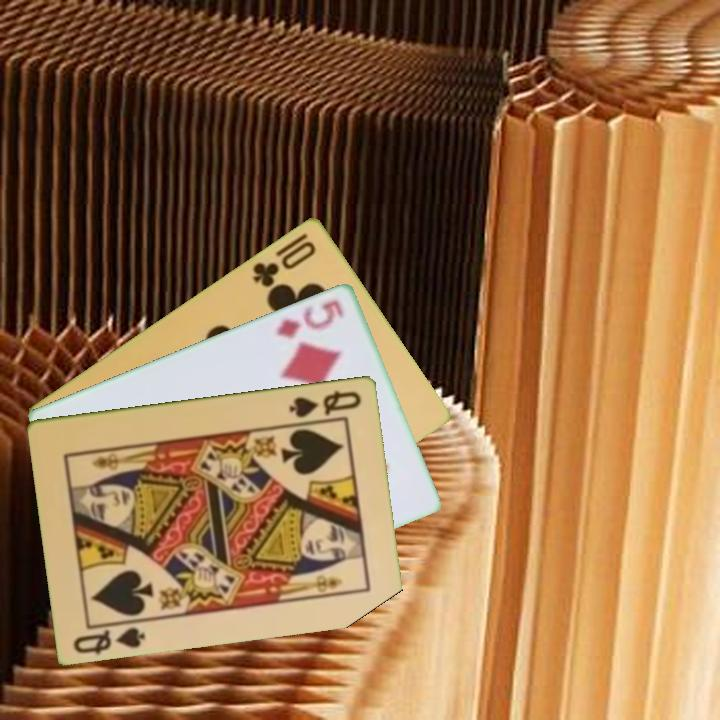10c: (249, 237, 319, 290)
5d: (274, 295, 347, 341)
Qs: (286, 386, 365, 420), (70, 623, 149, 657)
